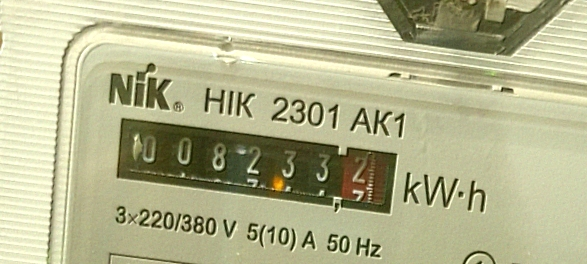0: (137, 131, 161, 166), (173, 135, 195, 168)
2: (242, 143, 266, 178), (350, 153, 371, 186)
3: (278, 147, 299, 181), (313, 151, 334, 184)
8: (208, 140, 230, 173)
screen: (102, 105, 411, 225)
